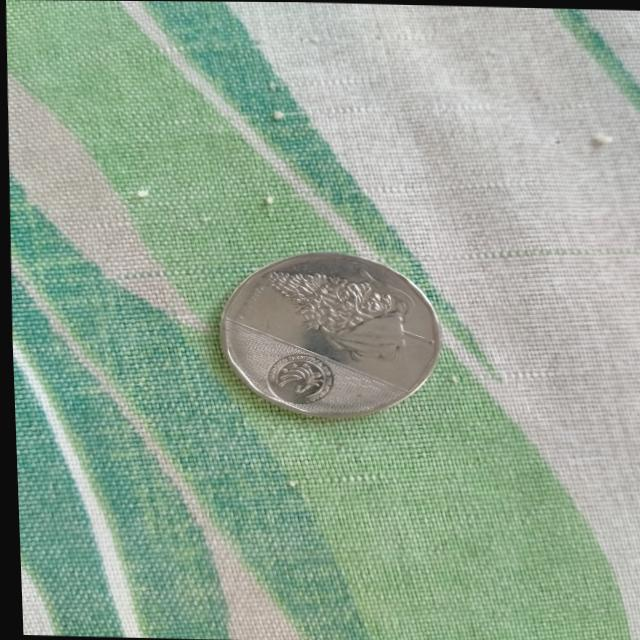10_New_Back: (257, 254, 439, 366)
